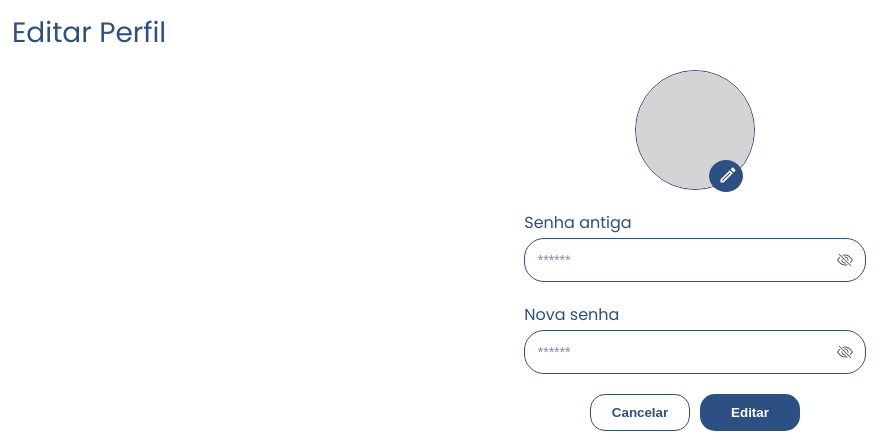
Scenario: EditProfileView Component › should reset fields when clicking 'Cancelar'
Type "abc123" into the password field labelled "Senha antiga". click: (682, 260)
box: [537, 251, 827, 269]
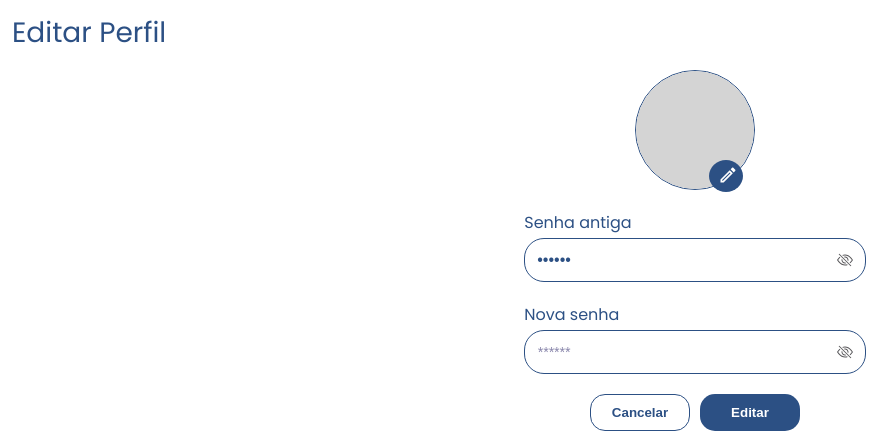
Type "xyz987" into the password field labelled "Nova senha". click: (682, 352)
box: [537, 343, 827, 361]
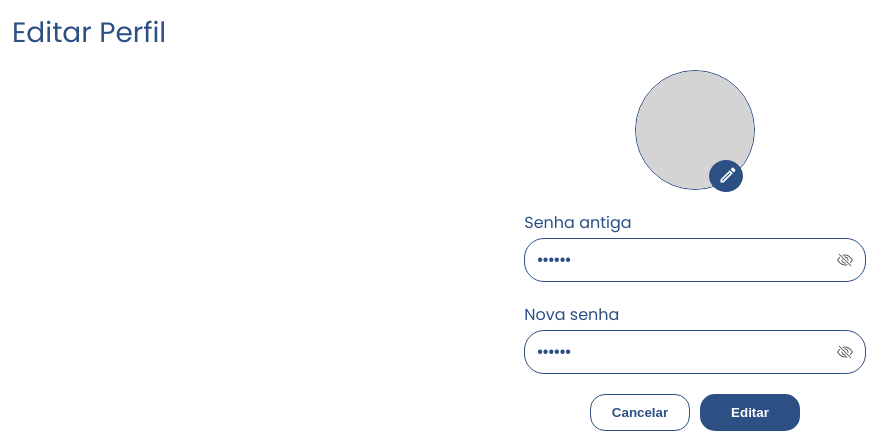
Click the button "Cancelar". click: (640, 412)
box: [590, 394, 690, 431]
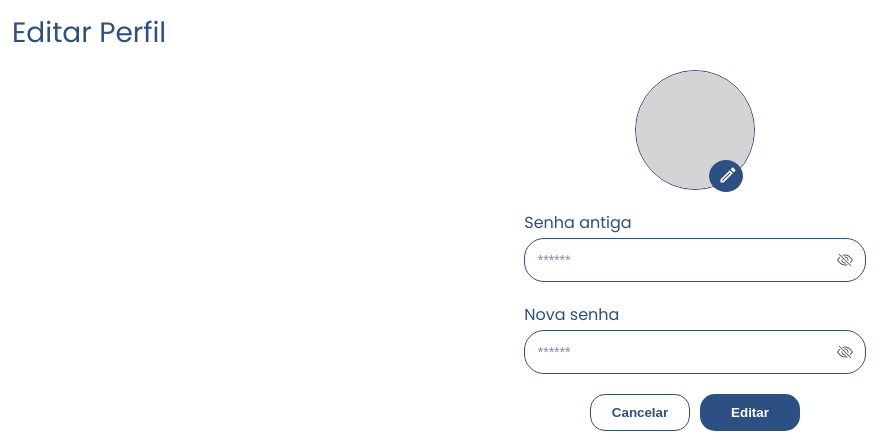
expect the password field labelled "Senha antiga" is empty: met, box [537, 251, 827, 269]
expect the password field labelled "Nova senha" is empty: met, box [537, 343, 827, 361]
